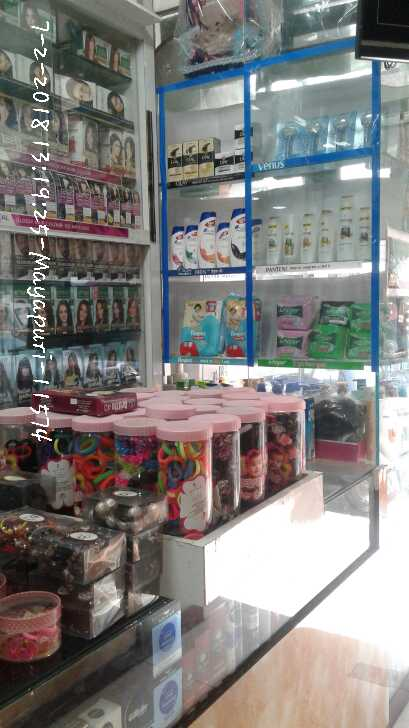venus: (329, 108, 361, 152), (303, 116, 329, 157), (275, 121, 303, 157)
